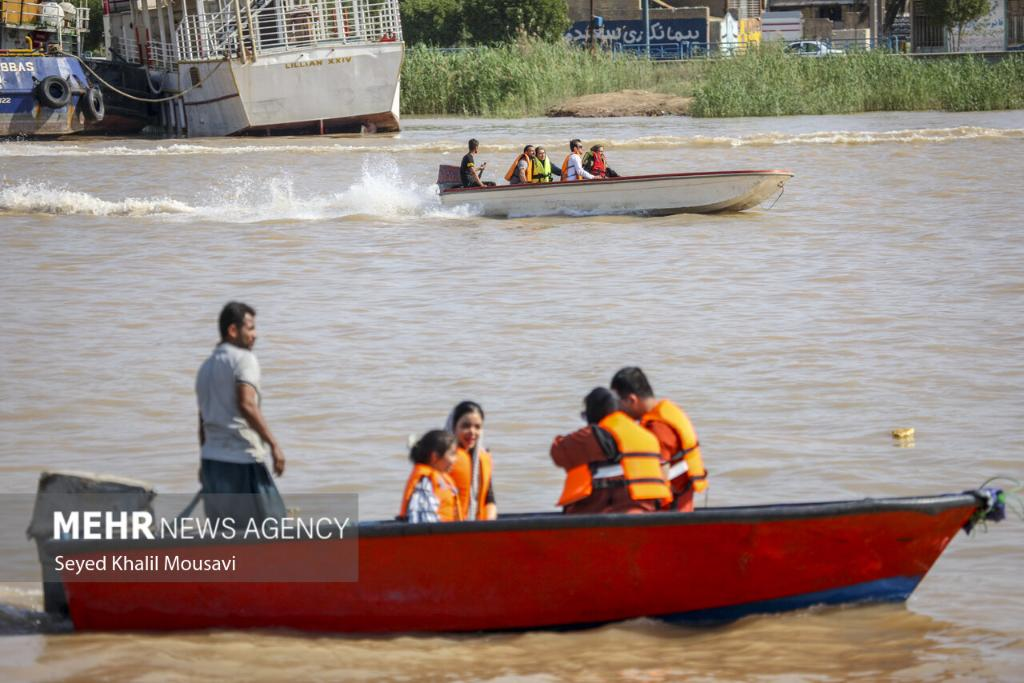PassengerShip: (76, 0, 422, 152)
